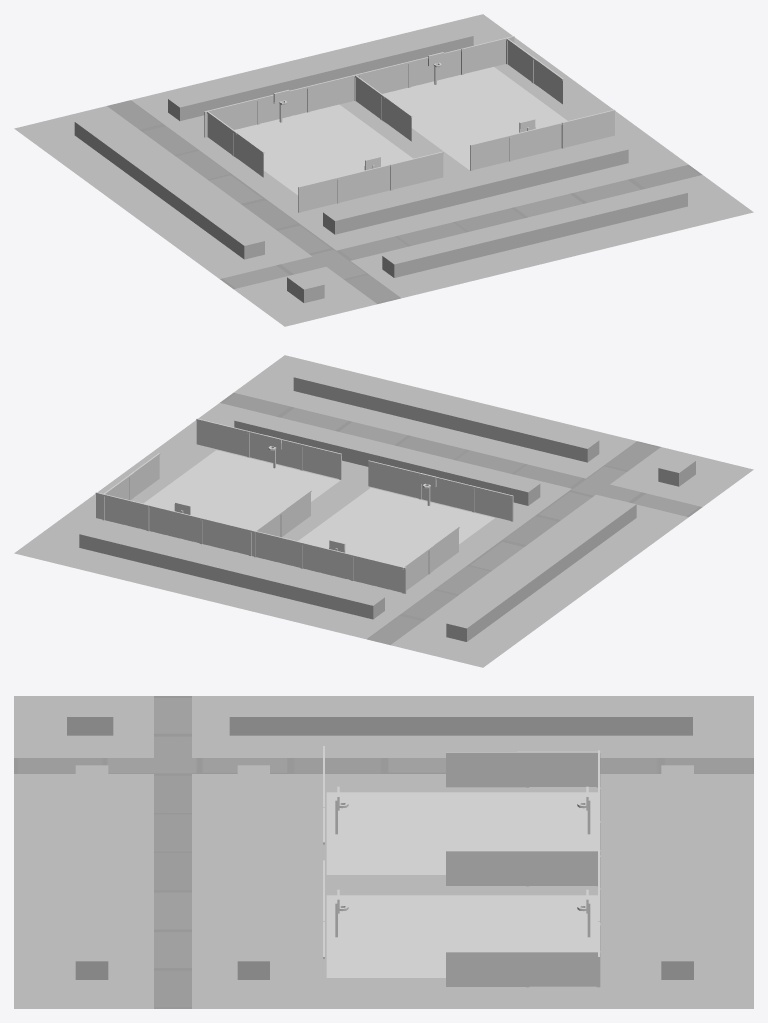
The model's file is tile_poi_park_6x6_b_1.fbx.
3 views of the same model, one above another, from view 1: azimuth 30°, elevation 25°; view 2: azimuth 150°, elevation 25°; view 3: azimuth 270°, elevation 25° (orthographic). The views are drawn at different scales.
Parts seen in each view (by area): view 1: tile_park_6x6_b_1; view 2: tile_park_6x6_b_1; view 3: tile_park_6x6_b_1.
Boxes of the visible parts, x1,y1,x2,y2 form: tile_park_6x6_b_1: (14,14,753,326); tile_park_6x6_b_1: (14,355,753,667); tile_park_6x6_b_1: (14,696,753,1008).
Bounding box in the file's own units: 9600 × 604 × 9600.
